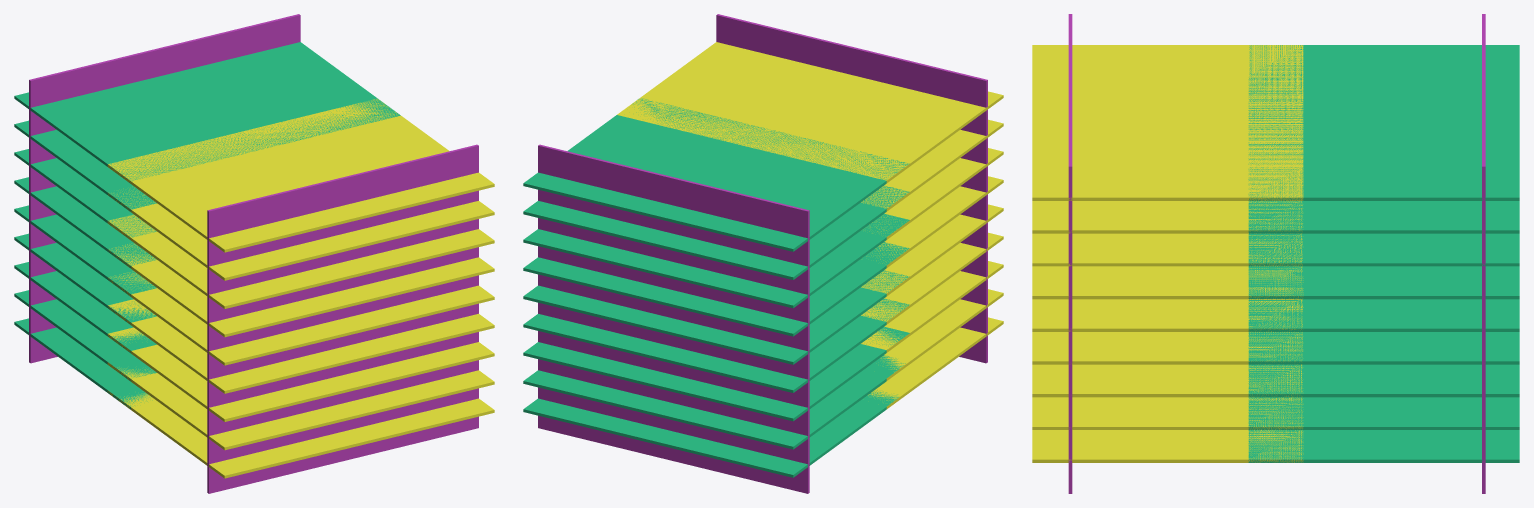
The model's file is seq.glb.
3 renders of one model, left to right at view 1: azimuth 30°, elevation 25°; view 2: azimuth 150°, elevation 25°; view 3: azimuth 270°, elevation 25°, orthographic. The views are drawn at different scales.
Visible parts, largest first — view 1: Cube.002, Cube.012, Cube.001, Cube.003, Cube.016, Cube.018, Cube.015, Cube.019, Cube.014, Cube.013, Cube.020, Cube.017 (+8 smaller); view 2: Cube.003, Cube.001, Cube.012, Cube.002, Cube.006, Cube.010, Cube.008, Cube.009, Cube.011, Cube.005, Cube.007, Cube.004 (+8 smaller); view 3: Cube.001, Cube.012, Cube.006, Cube.007, Cube.010, Cube.008, Cube.011, Cube.005, Cube.004, Cube.009, Cube.015, Cube.013 (+8 smaller).
Part boxes in pixels (<box>): Cube.002: <box>207,144,478,493</box>; Cube.012: <box>14,42,400,182</box>; Cube.001: <box>107,99,494,252</box>; Cube.003: <box>29,14,300,363</box>; Cube.016: <box>107,214,494,308</box>; Cube.018: <box>108,299,494,393</box>; Cube.015: <box>107,243,494,337</box>; Cube.019: <box>107,327,494,421</box>; Cube.014: <box>108,271,494,365</box>; Cube.013: <box>107,390,494,478</box>; Cube.020: <box>107,362,494,450</box>; Cube.017: <box>108,186,494,280</box>; Cube.003: <box>538,144,809,493</box>; Cube.001: <box>617,42,1003,182</box>; Cube.012: <box>523,98,909,251</box>; Cube.002: <box>716,14,987,363</box>; Cube.006: <box>523,213,909,308</box>; Cube.010: <box>523,242,909,336</box>; Cube.008: <box>523,186,909,279</box>; Cube.009: <box>523,270,909,364</box>; Cube.011: <box>523,355,905,449</box>; Cube.005: <box>523,298,909,392</box>; Cube.007: <box>523,326,909,421</box>; Cube.004: <box>523,390,898,477</box>; Cube.001: <box>1032,45,1303,200</box>; Cube.012: <box>1248,45,1519,200</box>; Cube.006: <box>1248,233,1519,266</box>; Cube.007: <box>1248,364,1519,397</box>; Cube.010: <box>1248,266,1519,299</box>; Cube.008: <box>1248,201,1519,233</box>; Cube.011: <box>1248,397,1519,429</box>; Cube.005: <box>1248,332,1519,364</box>; Cube.004: <box>1248,430,1519,462</box>; Cube.009: <box>1248,299,1519,331</box>; Cube.015: <box>1032,266,1303,299</box>; Cube.013: <box>1032,430,1303,462</box>.
Bounding box in the file's own units: 2 × 2 × 2.7.
